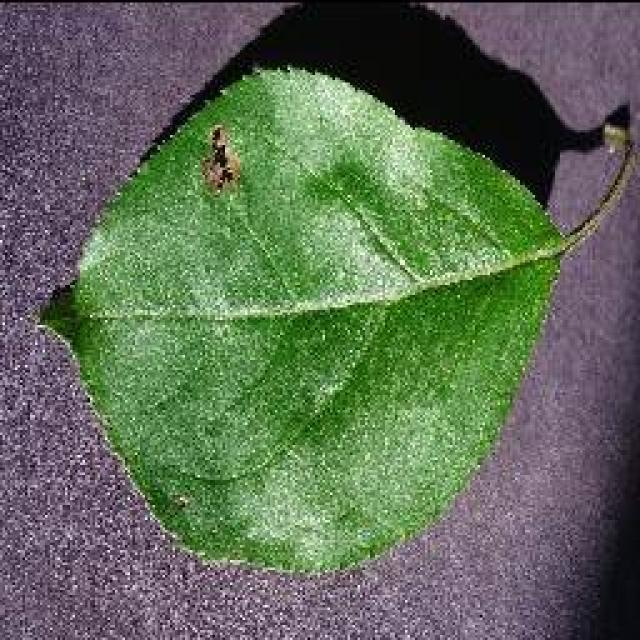apple black rot: (32, 0, 638, 578)
